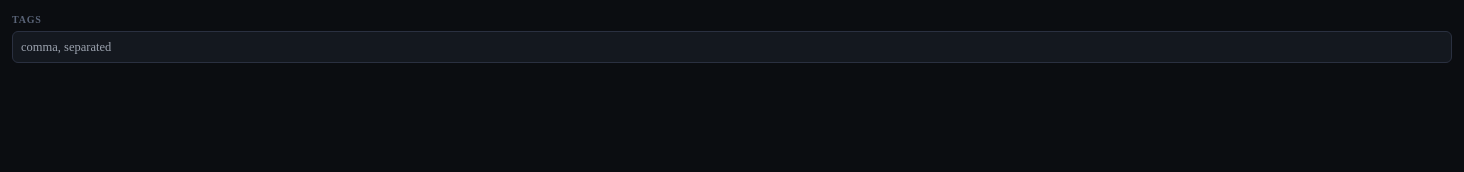
Test case: timeline tag suggestions › deduplicates suggestions and accepts the first match with Enter without saving partial input
The image size is (1464, 172).
Type "z" into the dropdown at (732, 47), box left=12, top=31, right=1452, bottom=63
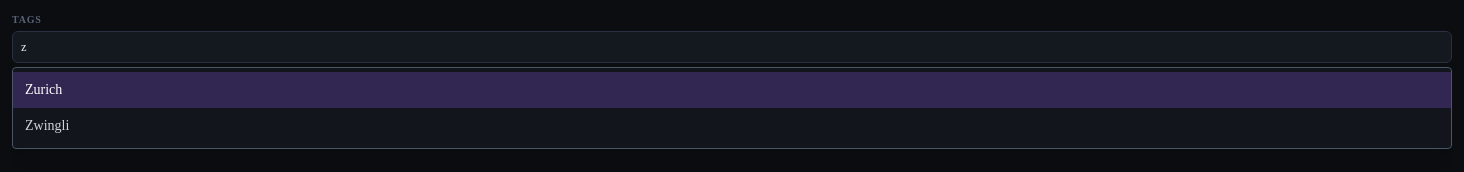
Expected: the number of options is 2, left=13, top=72, right=1451, bottom=108; left=25, top=118, right=69, bottom=133
Press Enter in the dropdown, box left=12, top=31, right=1452, bottom=63
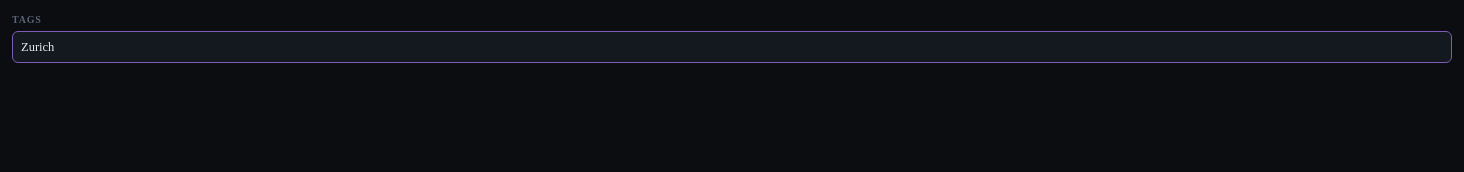
Expected: the list is gone
